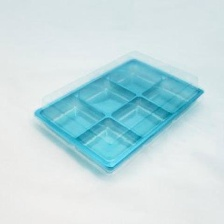plastic_box: (23, 42, 211, 181)
